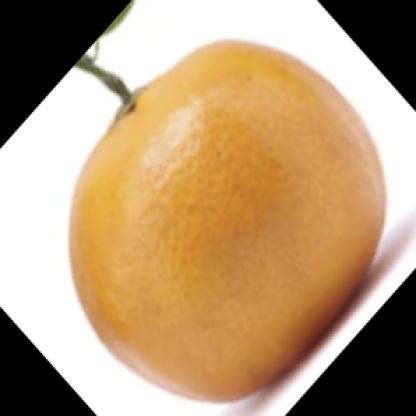fresh: (72, 38, 385, 403)
